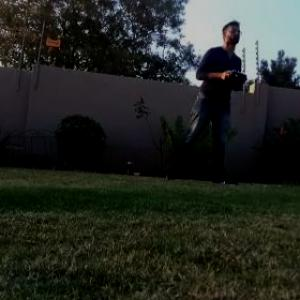follow: (167, 14, 251, 192)
